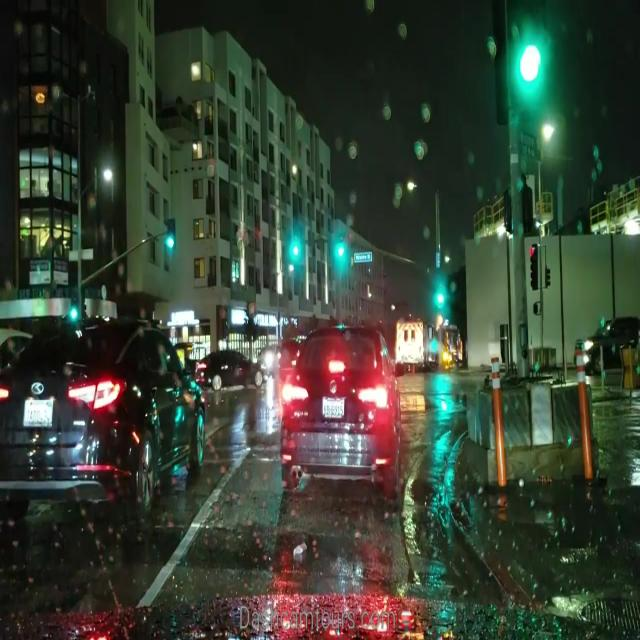Car: (2, 320, 204, 510), (277, 328, 398, 508), (198, 352, 262, 389)
